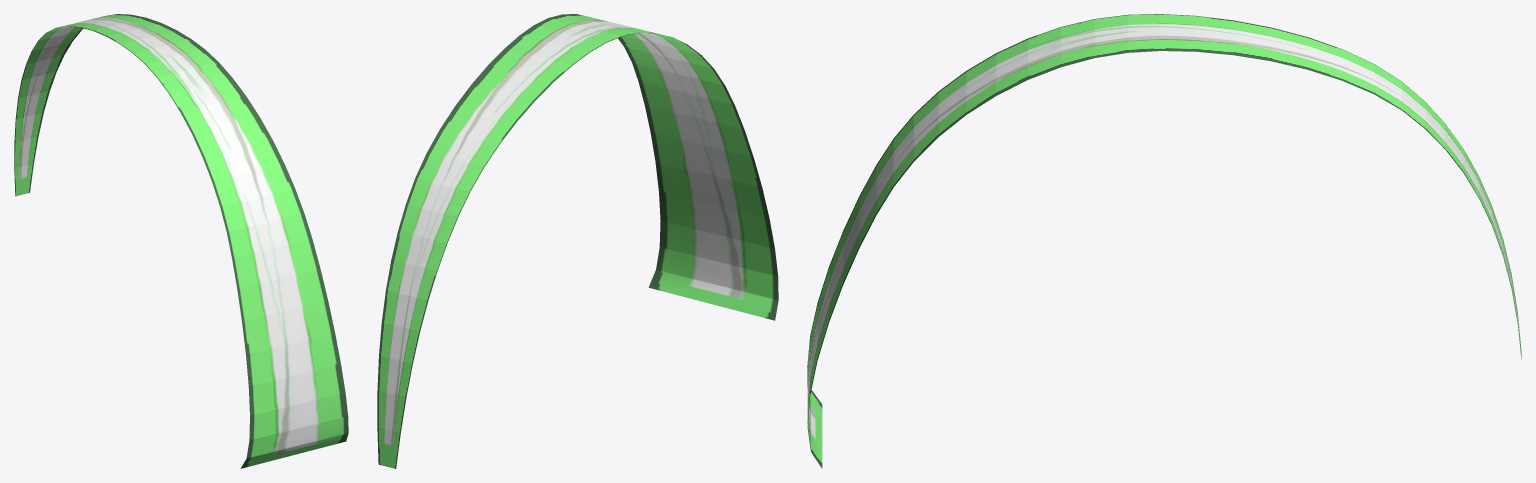
File: piaodai_6.FBX
3 renders of one model, left to right at view 1: azimuth 30°, elevation 25°; view 2: azimuth 150°, elevation 25°; view 3: azimuth 270°, elevation 25°, orthographic. The views are drawn at different scales.
Parts seen in each view (by area): view 1: Plane007; view 2: Plane007; view 3: Plane007.
Boxes of the visible parts, x1,y1,x2,y2 form: Plane007: (14, 14, 348, 468); Plane007: (377, 14, 778, 468); Plane007: (807, 14, 1521, 468).
Bounding box in the file's own units: 1.94 × 5.5 × 8.78.
